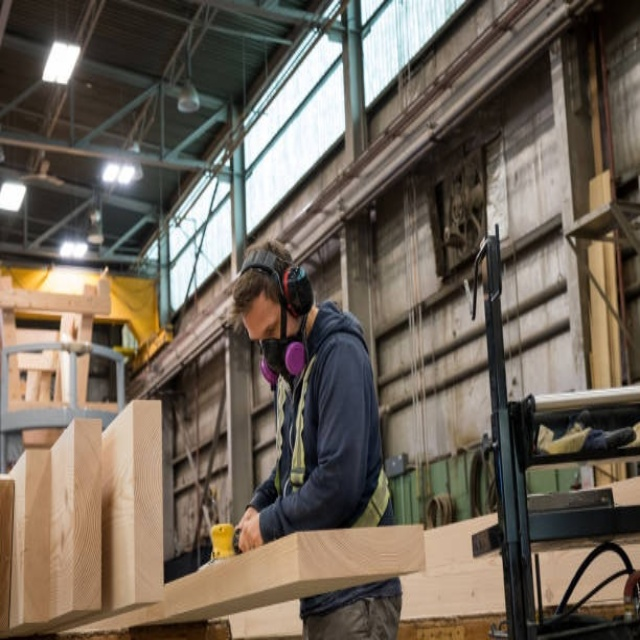Mascara: (261, 334, 294, 376)
Sin_gafas: (254, 304, 286, 348)
Sin_guantes: (233, 506, 265, 554)
